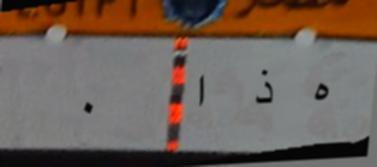0: (80, 90, 98, 125)
alif: (189, 66, 213, 113)
haa: (304, 70, 334, 119)
zaal: (247, 59, 278, 115)
